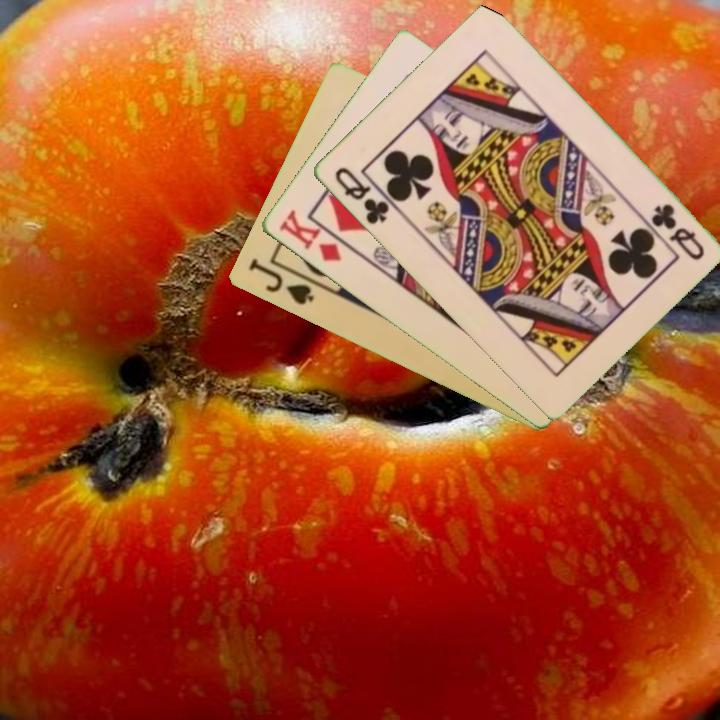Js: (244, 255, 317, 309)
Kd: (275, 206, 344, 265)
Qc: (330, 163, 400, 228), (647, 200, 707, 264)
